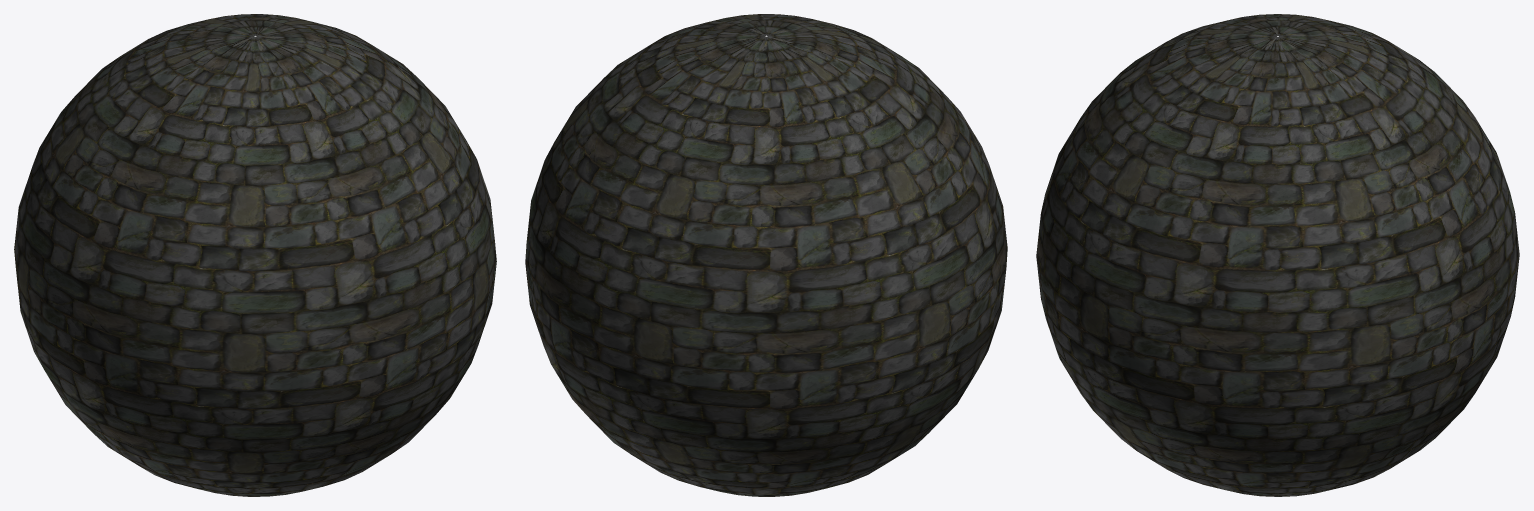
File: stone_floor.glb
3 renders of one model, left to right at view 1: azimuth 30°, elevation 25°; view 2: azimuth 150°, elevation 25°; view 3: azimuth 270°, elevation 25°, orthographic.
Visible parts, largest first — view 1: Object_2; view 2: Object_2; view 3: Object_2.
Boxes of the visible parts, x1,y1,x2,y2 form: Object_2: [14, 14, 496, 496]; Object_2: [525, 14, 1007, 496]; Object_2: [1036, 14, 1519, 496].
Size of the model in its own units: 2 by 2 by 2.
1 material, 1 textured.
